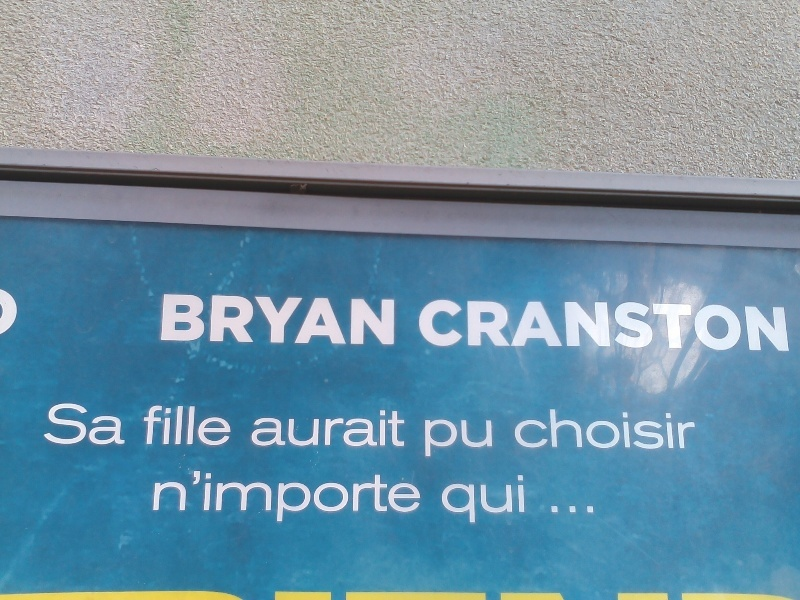text: (433, 296, 448, 353), (449, 296, 464, 353), (465, 296, 480, 353), (481, 296, 496, 353), (497, 296, 512, 353), (513, 296, 528, 353), (529, 296, 544, 353), (545, 296, 560, 353), (561, 296, 576, 353), (577, 296, 592, 353), (593, 296, 608, 353), (609, 296, 624, 353), (625, 296, 640, 353), (641, 296, 656, 353), (657, 296, 672, 353), (673, 296, 688, 353), (689, 296, 704, 353), (705, 296, 720, 353), (721, 296, 736, 353), (737, 296, 752, 353), (753, 296, 768, 353), (769, 296, 784, 353), (161, 470, 176, 526), (177, 470, 192, 526), (193, 470, 208, 526), (209, 470, 224, 526), (225, 470, 240, 526), (241, 470, 256, 526), (257, 470, 272, 526), (273, 470, 288, 526), (289, 470, 304, 526), (305, 470, 320, 526), (321, 470, 336, 526), (337, 470, 352, 526), (353, 470, 368, 526), (369, 470, 384, 526), (385, 470, 400, 526), (401, 470, 416, 526), (161, 292, 176, 346), (177, 292, 192, 346), (193, 292, 208, 346), (209, 292, 224, 346), (225, 292, 240, 346), (241, 292, 256, 346), (257, 292, 272, 346), (273, 292, 288, 346), (289, 292, 304, 346), (305, 292, 320, 346), (321, 292, 336, 346), (337, 292, 352, 346), (353, 292, 368, 346), (369, 292, 384, 346), (418, 296, 432, 353), (449, 474, 464, 524), (465, 474, 480, 524), (481, 474, 496, 524), (497, 474, 512, 524), (513, 474, 527, 524), (145, 402, 160, 447), (161, 402, 176, 447), (177, 402, 192, 447), (193, 402, 208, 447), (209, 402, 224, 447), (49, 403, 64, 447), (65, 403, 80, 447), (81, 403, 96, 447), (97, 403, 112, 447), (385, 292, 397, 346), (529, 407, 544, 450), (545, 407, 560, 450), (561, 407, 576, 450), (577, 407, 592, 450), (593, 407, 608, 450), (609, 407, 624, 450), (625, 407, 640, 450), (641, 407, 656, 450), (657, 407, 672, 450), (673, 407, 688, 450), (433, 418, 448, 458), (449, 418, 464, 458), (465, 418, 480, 458), (257, 409, 272, 448), (273, 409, 288, 448), (289, 409, 304, 448), (305, 409, 320, 448), (321, 409, 336, 448), (337, 409, 352, 448), (353, 409, 368, 448), (369, 409, 384, 448), (385, 409, 400, 448), (113, 403, 126, 447), (785, 296, 795, 353), (515, 407, 528, 450), (481, 418, 494, 458), (225, 402, 234, 447), (440, 474, 448, 524), (689, 407, 697, 450), (425, 418, 432, 458), (155, 470, 160, 526), (417, 470, 422, 526), (401, 409, 408, 448), (561, 504, 576, 515), (577, 504, 592, 515), (551, 504, 560, 515), (593, 504, 598, 515)
